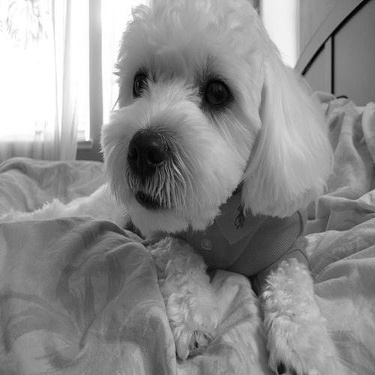dog: (3, 1, 359, 371)
